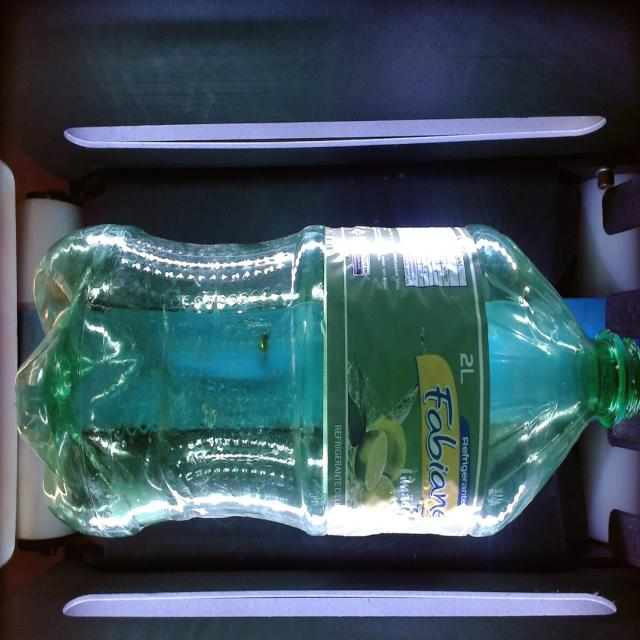bottle: (16, 224, 640, 537)
